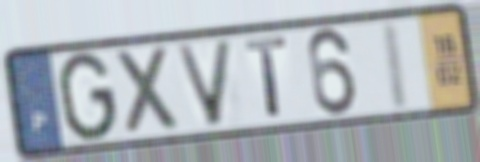6: (306, 25, 359, 119)
G: (56, 49, 120, 145)
I: (378, 19, 412, 113)
T: (242, 34, 291, 122)
V: (172, 38, 237, 130)
X: (112, 42, 184, 140)
